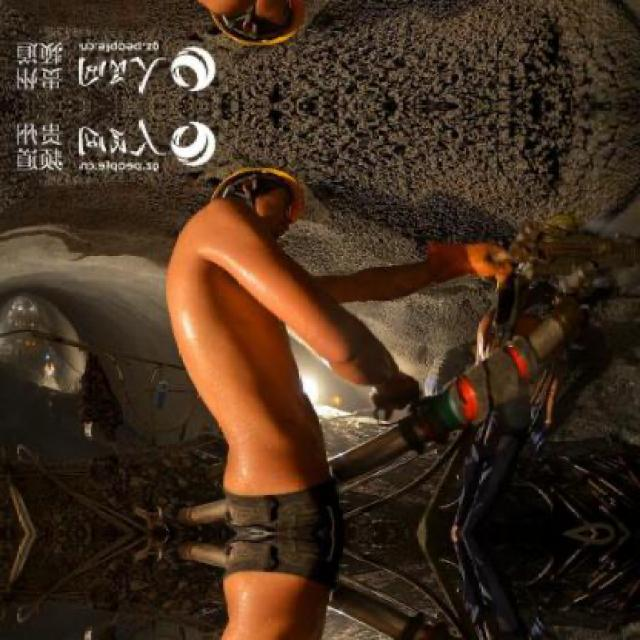helmet: (209, 160, 308, 230), (208, 0, 308, 54)
